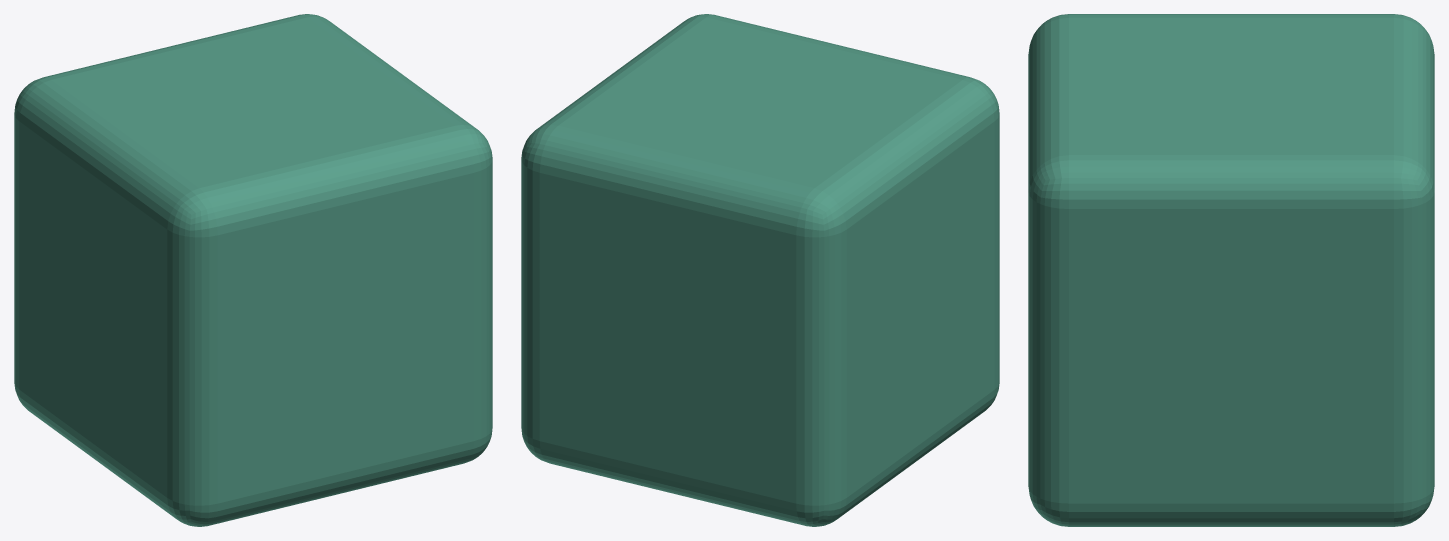
The picture shows the model from 3 angles, left to right: view 1: azimuth 30°, elevation 25°; view 2: azimuth 150°, elevation 25°; view 3: azimuth 270°, elevation 25°; orthographic projection. The views are drawn at different scales.
Parts seen in each view (by area): view 1: Cube.001; view 2: Cube.001; view 3: Cube.001.
Part boxes in pixels (x1,y1,x2,y2): Cube.001: (14,14,492,526); Cube.001: (521,14,999,526); Cube.001: (1028,14,1434,526).
Bounding box in the file's own units: 2.5 × 2.5 × 2.5.
